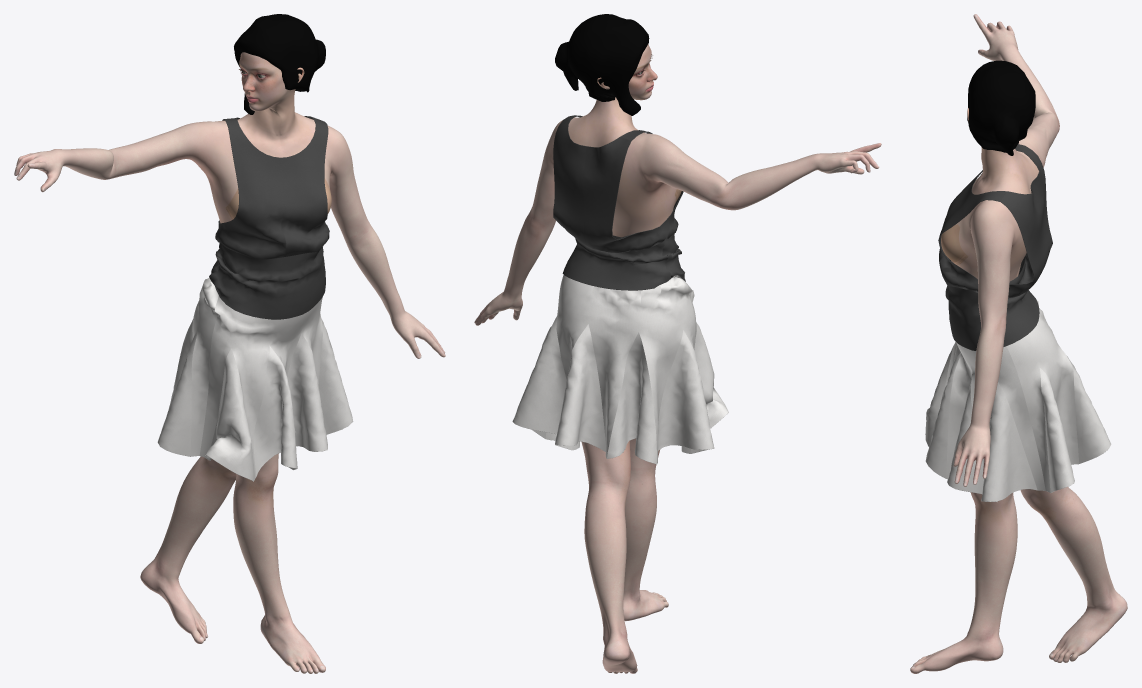
File: Custom_View_4__Dynamic.obj
The picture shows the model from 3 angles, left to right: view 1: azimuth 30°, elevation 25°; view 2: azimuth 150°, elevation 25°; view 3: azimuth 270°, elevation 25°; orthographic projection. The views are drawn at different scales.
Size of the model in its own units: 1226 by 1775 by 569.
